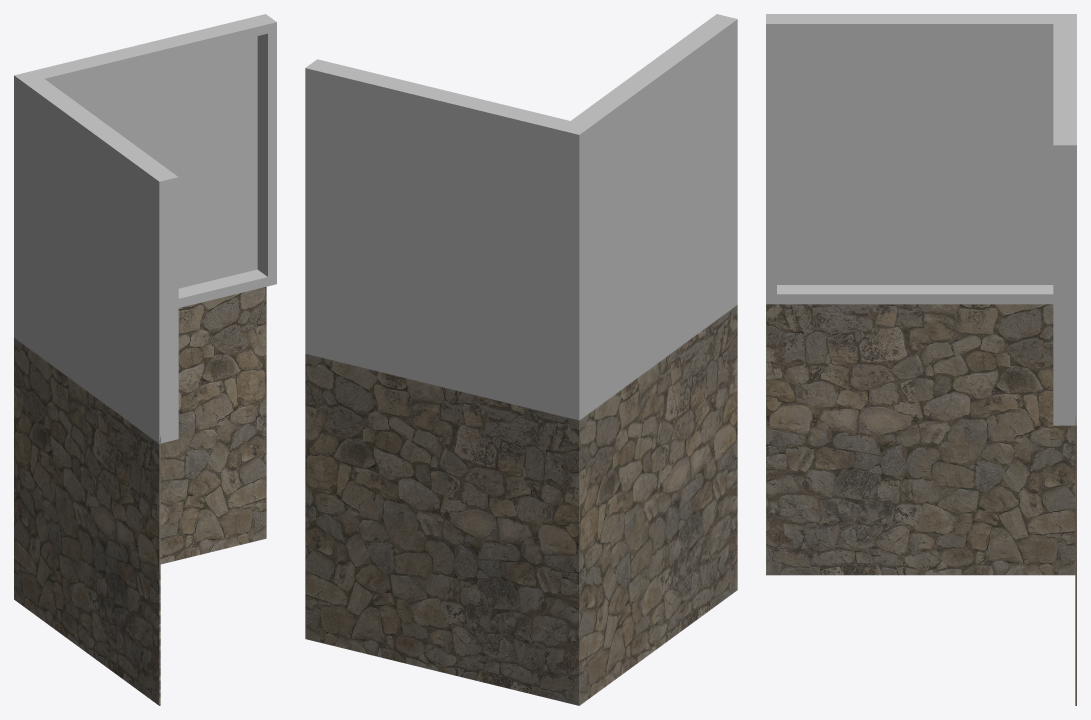
Rendered from HouseCorner_2x2.fbx.
3 views of the same model, side by side, from view 1: azimuth 30°, elevation 25°; view 2: azimuth 150°, elevation 25°; view 3: azimuth 270°, elevation 25° (orthographic). The views are drawn at different scales.
Visible parts, largest first — view 1: Plane.139; view 2: Plane.139; view 3: Plane.139.
Boxes of the visible parts, x1,y1,x2,y2 form: Plane.139: [14, 14, 276, 705]; Plane.139: [305, 14, 737, 705]; Plane.139: [766, 14, 1076, 705].
Bounding box in the file's own units: 201 × 400 × 201.
